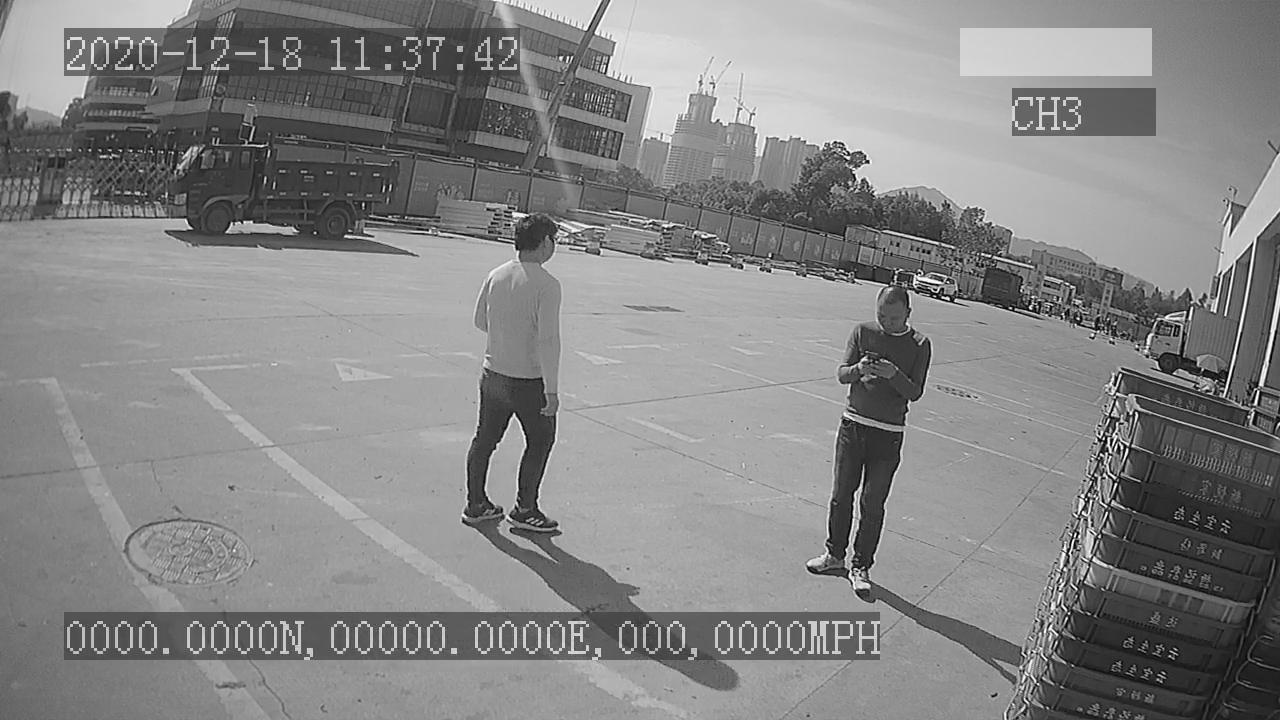person: (807, 285, 936, 594), (456, 207, 572, 540)
